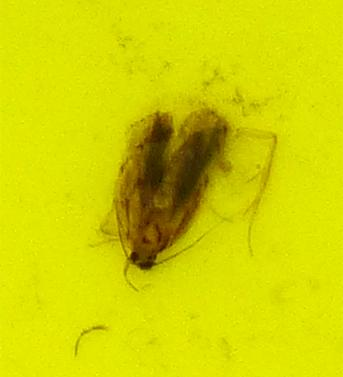Lepidoptera: (100, 100, 243, 277)
